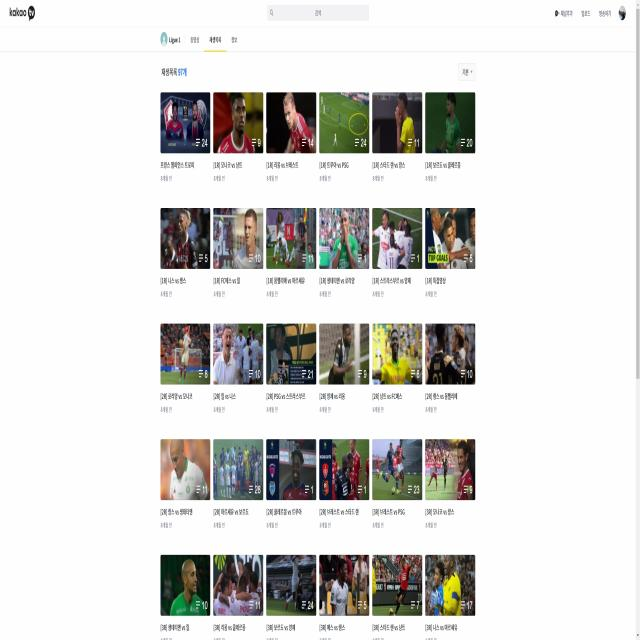menu-bar: (552, 4, 628, 23)
search: (266, 1, 370, 24)
tab-bar: (157, 23, 241, 54)
